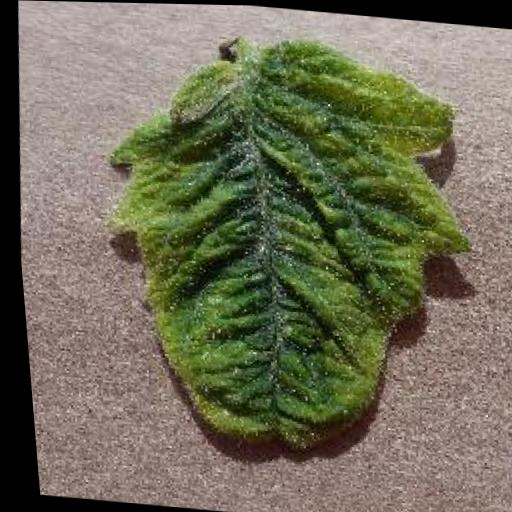Yellow Leaf Curl Virus: (74, 17, 492, 468)
